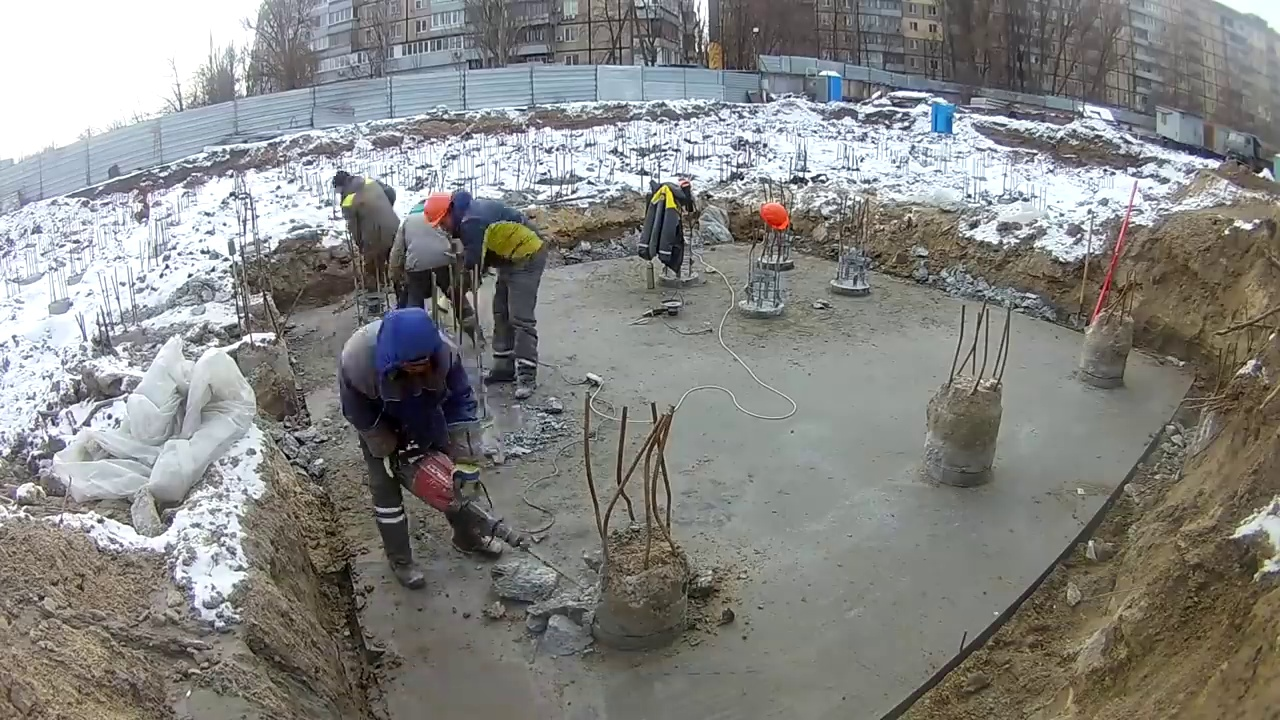helmet: (423, 195, 453, 229), (759, 203, 789, 231)
helmet-off: (374, 306, 443, 390)
helmet-on: (424, 188, 461, 232)
person: (338, 307, 503, 589), (423, 189, 548, 399), (392, 184, 486, 349), (331, 171, 400, 297)
